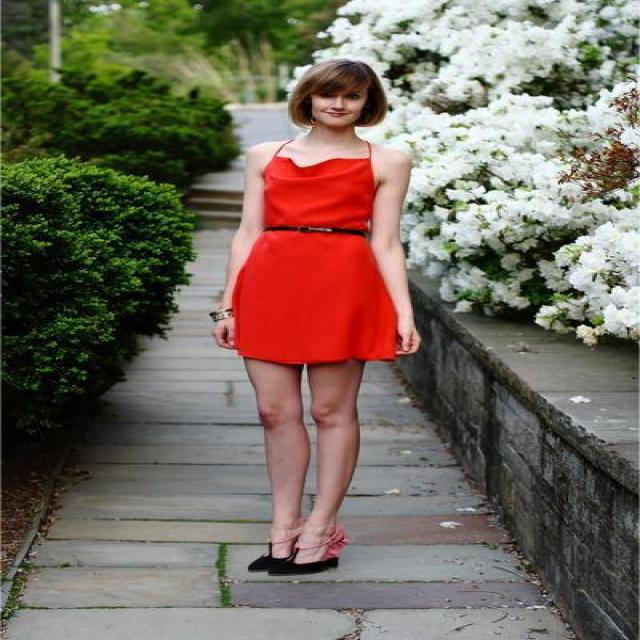dress: (220, 154, 402, 364)
shoe: (250, 548, 338, 575)
